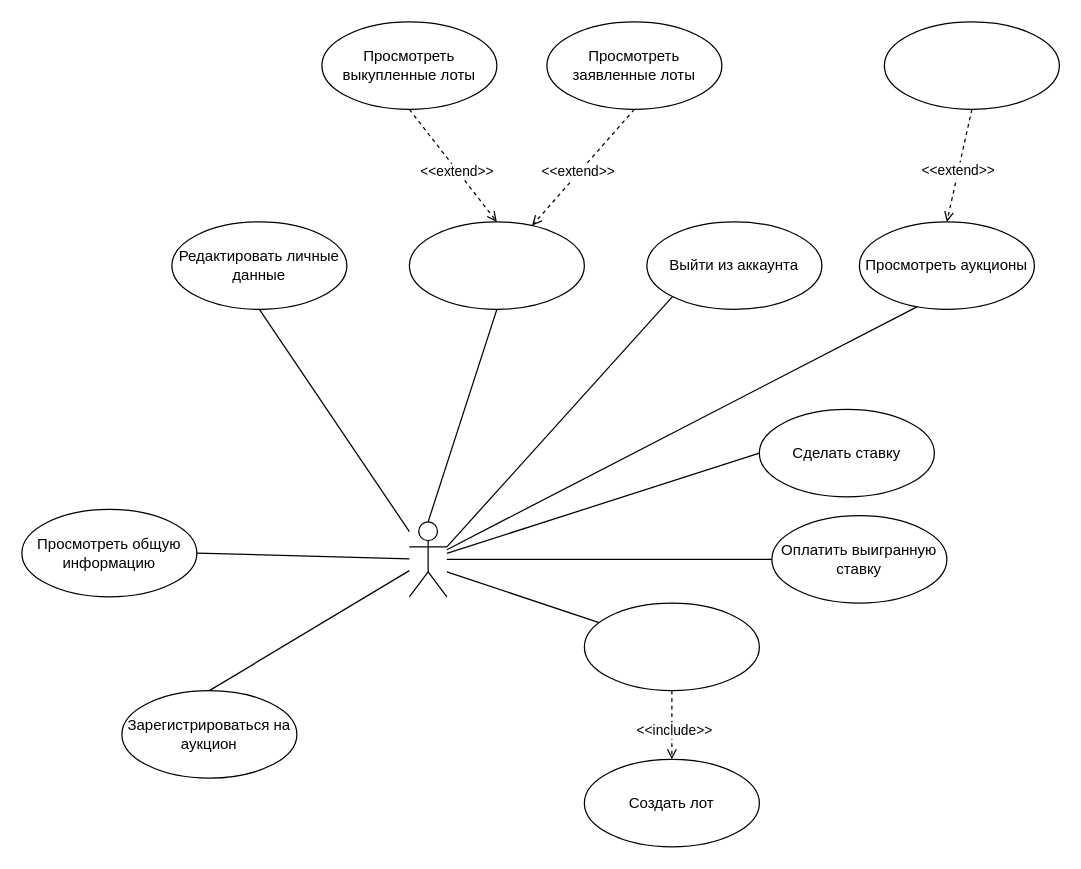
Some shapes in this 1081 by 869 pixel diagram are drawn without their labels. The centre of each missing label's shape, as x and y in pixels:
"Авторизованный пользователь" goes at (427,559).
"Подать заявку лота на аукцион" goes at (671,646).
"Просмотреть личный кабинет" goes at (496,265).
"Просмотреть лоты" goes at (971,65).
